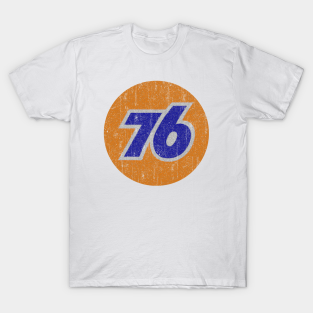design: (102, 79, 211, 187)
